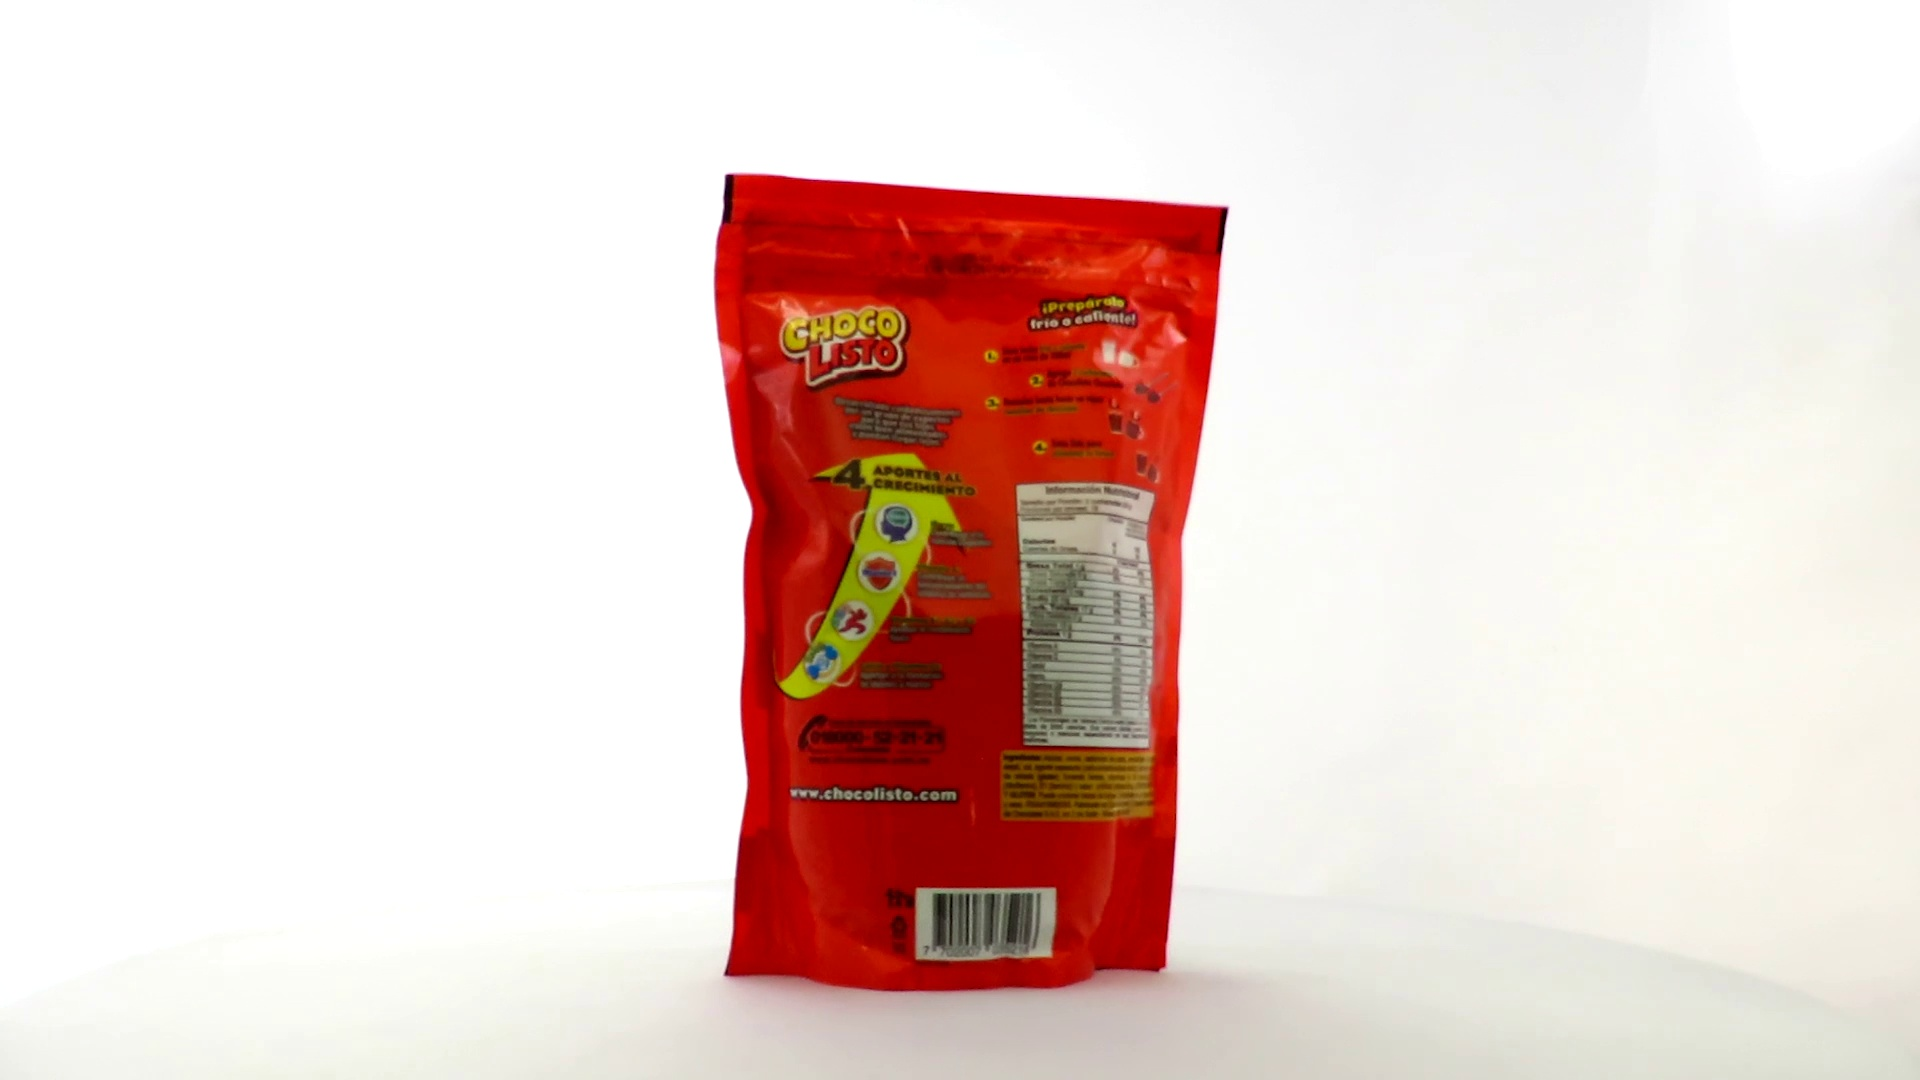COL0170103DYP36000: (709, 169, 1234, 998)
